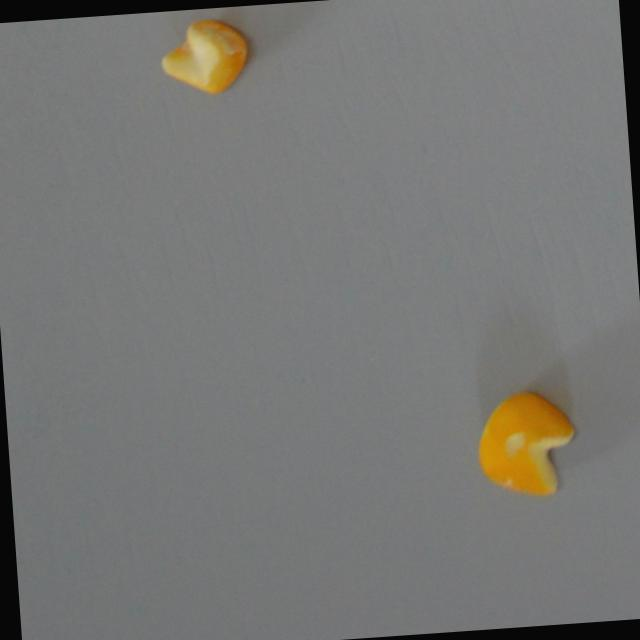pelicula: (470, 383, 582, 503), (154, 11, 255, 98)
